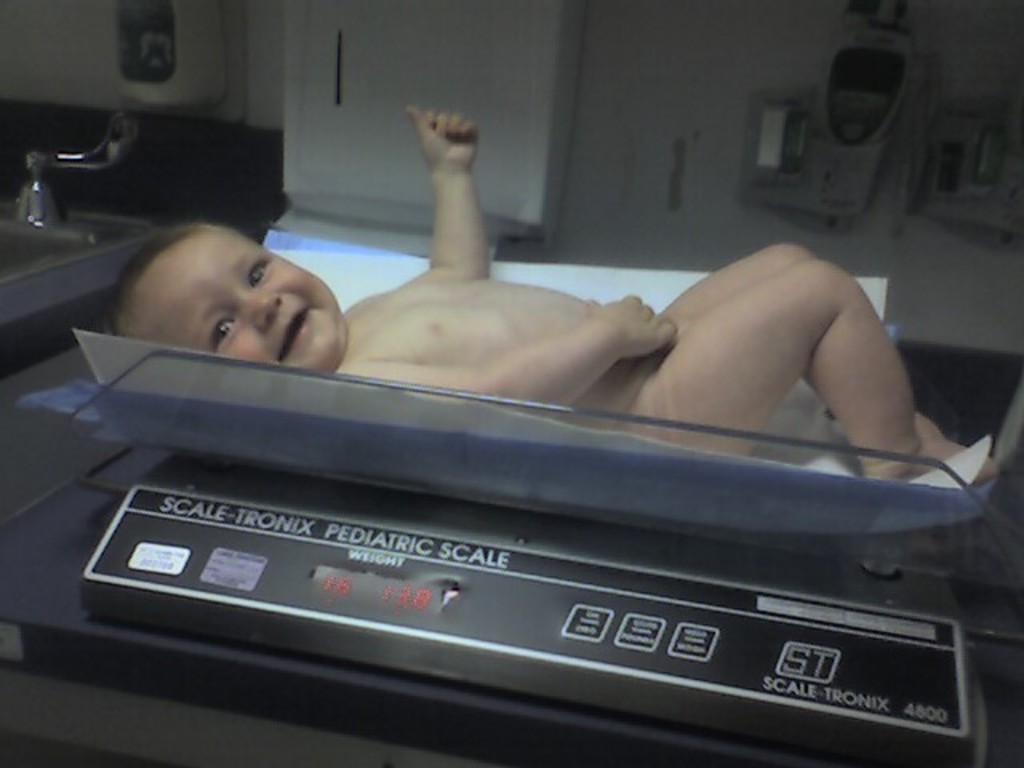Human_hand: (586, 291, 674, 357), (409, 105, 479, 171)
